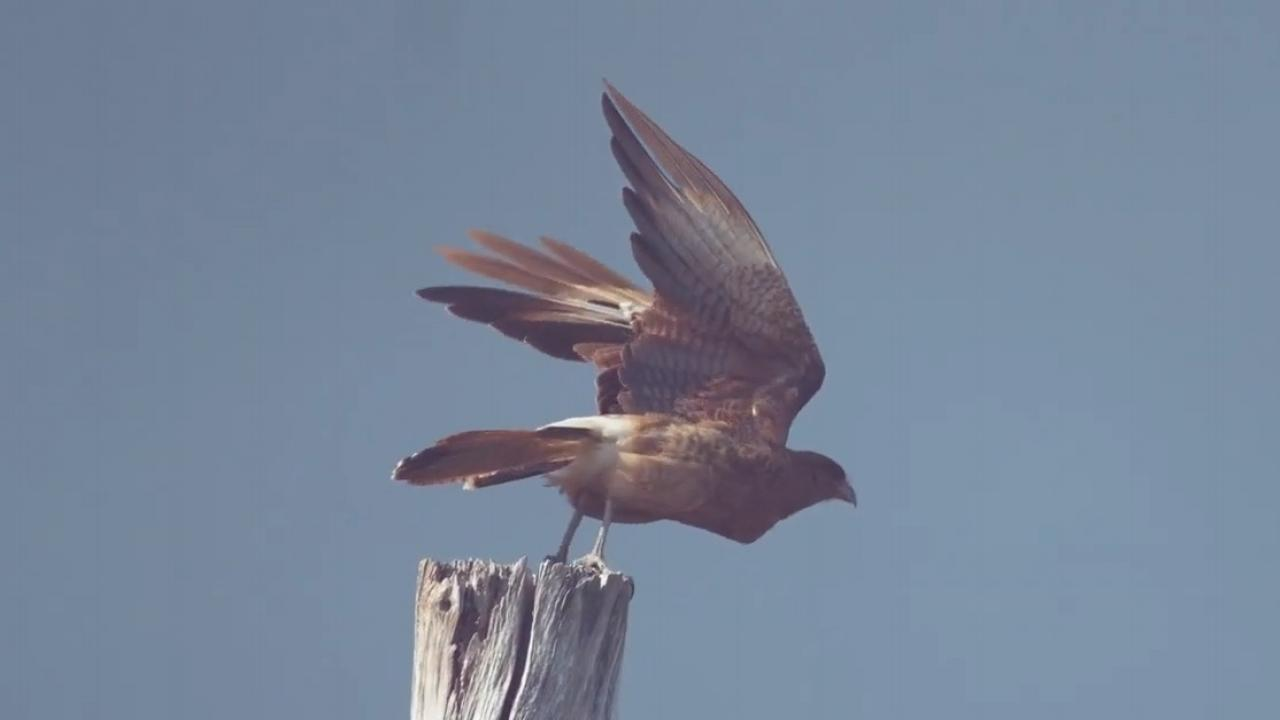Bird: (388, 70, 864, 575)
